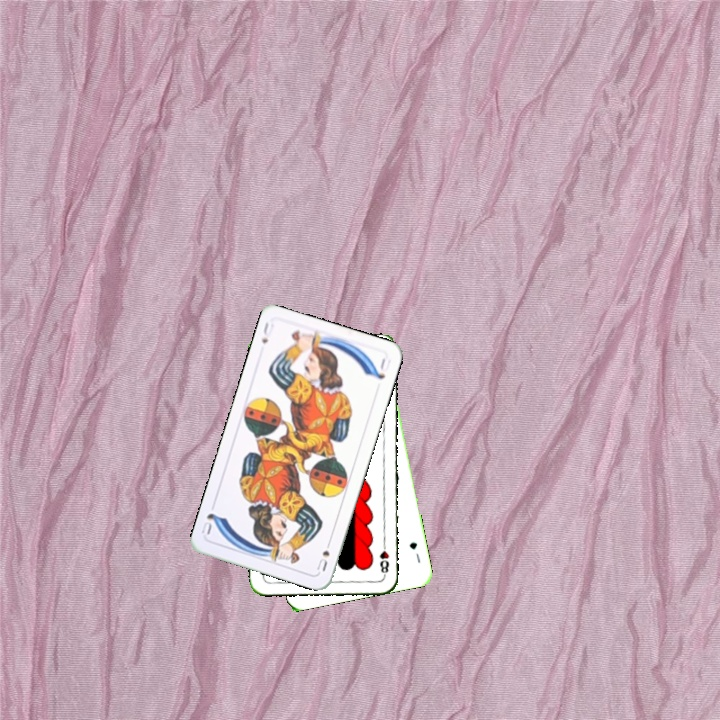GU: (405, 538, 423, 565)
H8: (376, 538, 392, 578)
SU: (313, 535, 334, 574), (258, 318, 277, 346)
